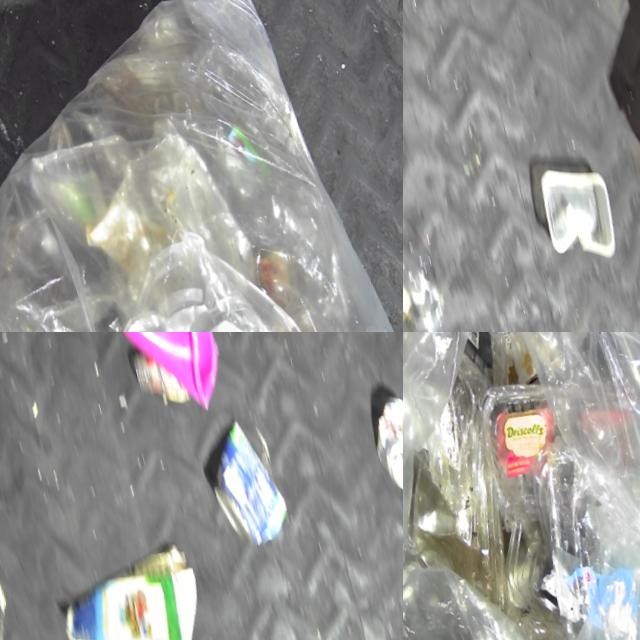can: (186, 411, 292, 554), (352, 387, 403, 496)
non_white_jug: (64, 332, 235, 419)
plastic_bottle: (403, 98, 443, 332)
